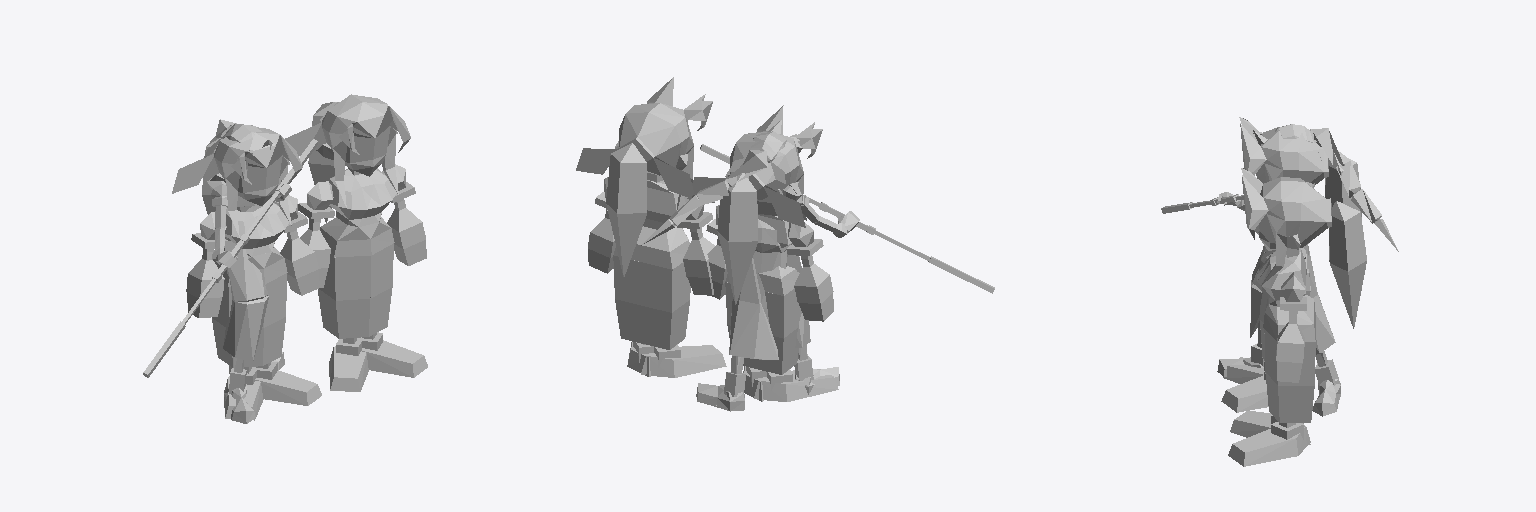
File: AerithOG.Field.obj
The picture shows the model from 3 angles: view 1: azimuth 30°, elevation 25°; view 2: azimuth 150°, elevation 25°; view 3: azimuth 270°, elevation 25°; orthographic projection.
Parts seen in each view (by area): view 1: AerithOG_Field_Static, auffBone2_head, auffBone1_chest, rvaaBone28_28, auffBone21_r_tibia, auffBone0_hip, auffBone20_r_femur, rvaaBone31_WEAPON, auffBone18_l_foot, rvaaBone27_27, auffBone22_r_foot, auffBone8_l_foarm (+8 smaller); view 2: AerithOG_Field_Static, auffBone2_head, auffBone4_kami, rvaaBone20_20, auffBone20_r_femur, auffBone21_r_tibia, auffBone22_r_foot, auffBone0_hip, rvaaBone31_WEAPON, auffBone17_l_tibia, auffBone1_chest, auffBone16_l_femur (+9 smaller); view 3: AerithOG_Field_Static, auffBone2_head, auffBone4_kami, auffBone17_l_tibia, auffBone18_l_foot, auffBone1_chest, auffBone0_hip, rvaaBone20_20, auffBone16_l_femur, auffBone8_l_foarm, auffBone22_r_foot, auffBone7_l_uparm (+3 smaller).
Part boxes in pixels (x1,y1,x2,y2): AerithOG_Field_Static: (172,127,321,420); auffBone2_head: (285,94,410,207); auffBone1_chest: (329,168,396,226); rvaaBone28_28: (223,296,268,393); auffBone21_r_tibia: (318,289,369,355); auffBone0_hip: (320,217,394,257); auffBone20_r_femur: (319,255,370,300); rvaaBone31_WEAPON: (143,139,317,377); auffBone18_l_foot: (361,340,427,377); rvaaBone27_27: (225,241,268,301); auffBone22_r_foot: (329,346,368,391); auffBone8_l_foarm: (387,200,425,248); AerithOG_Field_Static: (687,105,838,401); auffBone2_head: (576,77,712,197); auffBone4_kami: (606,143,646,276); rvaaBone20_20: (724,299,778,396); auffBone20_r_femur: (643,262,690,312); auffBone21_r_tibia: (643,300,689,367); auffBone22_r_foot: (641,345,726,377); auffBone0_hip: (614,226,689,269); rvaaBone31_WEAPON: (700,144,994,293); auffBone17_l_tibia: (615,299,653,362); auffBone1_chest: (643,180,678,229); auffBone16_l_femur: (613,255,642,305); AerithOG_Field_Static: (1221,117,1361,412); auffBone2_head: (1241,168,1331,285); auffBone4_kami: (1329,201,1366,328); auffBone17_l_tibia: (1265,372,1314,439); auffBone18_l_foot: (1228,426,1310,466); auffBone1_chest: (1257,248,1305,306); auffBone0_hip: (1263,295,1315,341); rvaaBone20_20: (1313,295,1338,385); auffBone16_l_femur: (1264,329,1315,385); auffBone8_l_foarm: (1276,315,1304,362); auffBone22_r_foot: (1230,411,1310,445); auffBone7_l_uparm: (1280,272,1306,315).
Size of the model in its own units: 11.68 by 9.03 by 7.1.